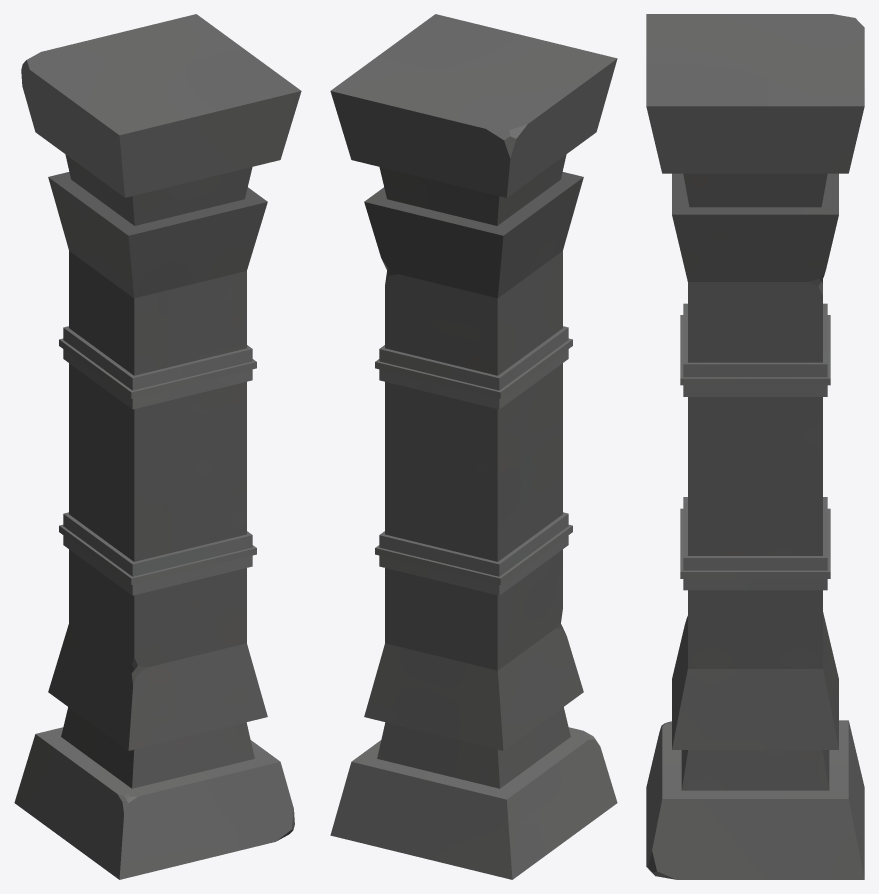
File: Pillar_1.fbx
The picture shows the model from 3 angles, left to right: view 1: azimuth 30°, elevation 25°; view 2: azimuth 150°, elevation 25°; view 3: azimuth 270°, elevation 25°; orthographic projection. The views are drawn at different scales.
Visible parts, largest first — view 1: Pillar 1; view 2: Pillar 1; view 3: Pillar 1.
Part boxes in pixels (x1,y1,x2,y2): Pillar 1: (14, 14, 301, 879); Pillar 1: (330, 14, 617, 879); Pillar 1: (646, 14, 864, 879).
Size of the model in its own units: 63.97 by 250 by 63.97.
